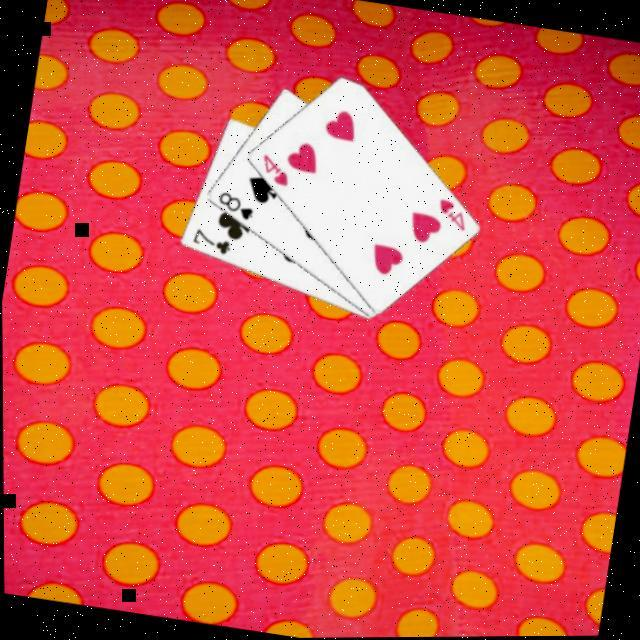4H: (431, 196, 472, 236), (255, 151, 295, 191)
7C: (188, 225, 236, 260)
8S: (213, 189, 259, 225)
